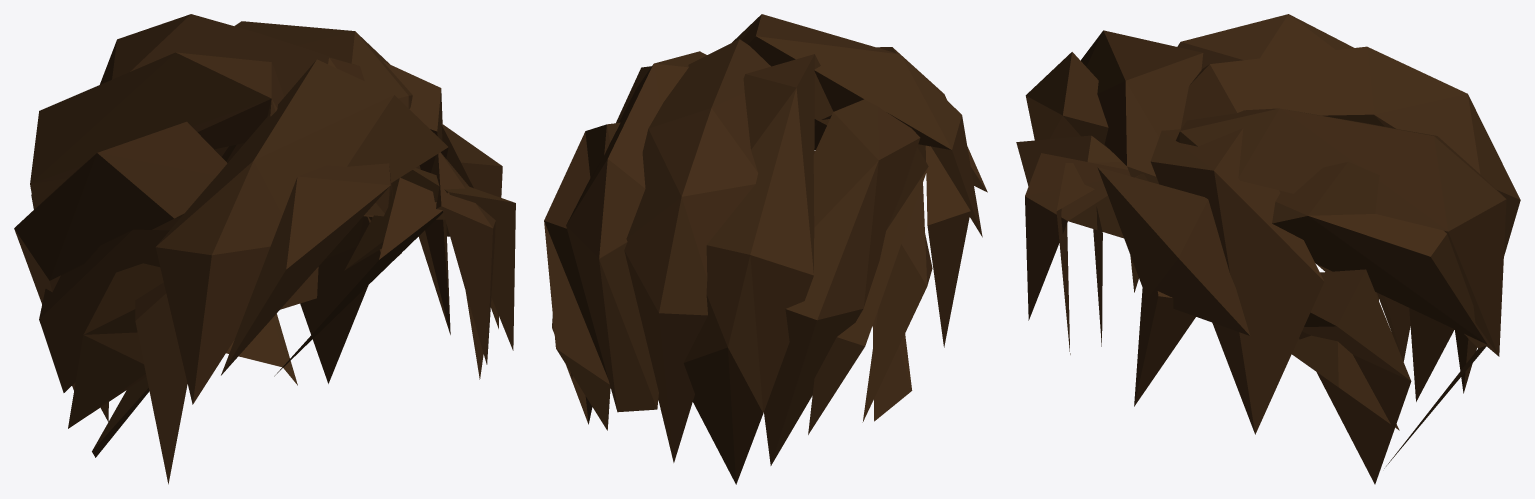
The model's file is hair-swept.low.8bd81320.glb.
The picture shows the model from 3 angles, left to right: view 1: azimuth 30°, elevation 25°; view 2: azimuth 150°, elevation 25°; view 3: azimuth 270°, elevation 25°; orthographic projection. The views are drawn at different scales.
Parts seen in each view (by area): view 1: hair-swept; view 2: hair-swept; view 3: hair-swept.
Boxes of the visible parts, bbox=[...] form: hair-swept: bbox=[14, 14, 515, 484]; hair-swept: bbox=[544, 14, 987, 484]; hair-swept: bbox=[1016, 14, 1520, 484].
Bounding box in the file's own units: 0.2142 × 0.2229 × 0.2606.
